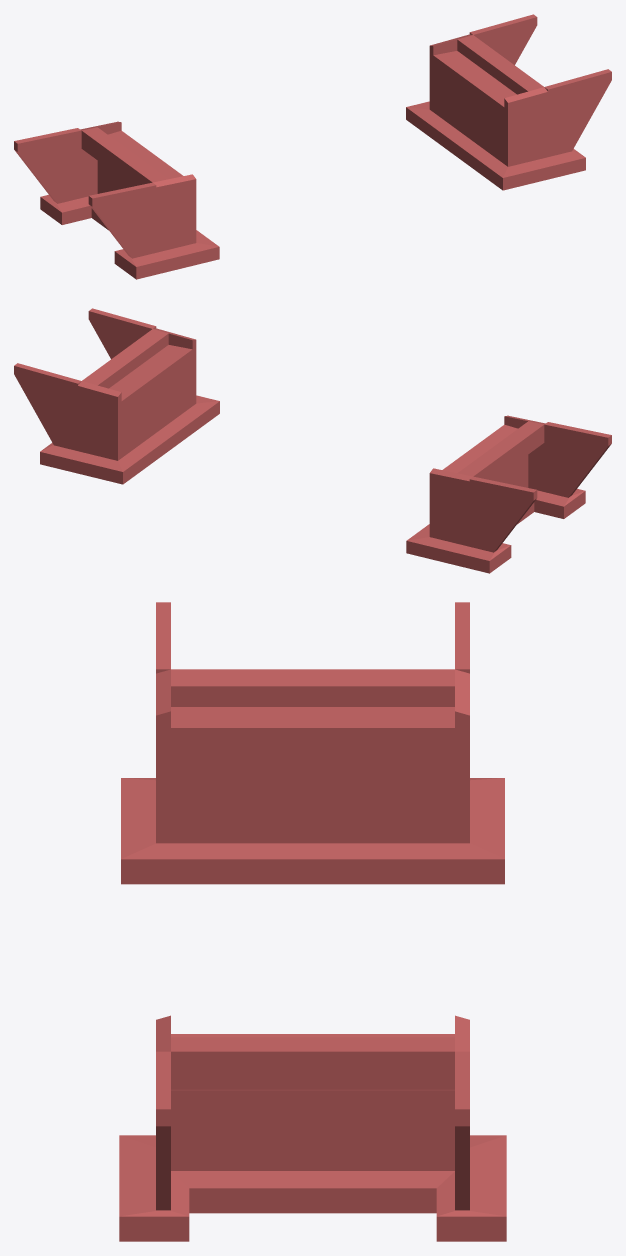
The model's file is bridge7_abutments.obj.
The picture shows the model from 3 angles, top to bottom: view 1: azimuth 30°, elevation 25°; view 2: azimuth 150°, elevation 25°; view 3: azimuth 270°, elevation 25°; orthographic projection. The views are drawn at different scales.
Parts seen in each view (by area): view 1: mesh_1, mesh_0; view 2: mesh_1, mesh_0; view 3: mesh_0, mesh_1.
Boxes of the visible parts, x1,y1,x2,y2 form: mesh_1: [406, 14, 611, 190]; mesh_0: [14, 121, 219, 279]; mesh_1: [14, 308, 219, 484]; mesh_0: [406, 415, 611, 573]; mesh_0: [121, 602, 504, 884]; mesh_1: [119, 1015, 506, 1241].
Bounding box in the file's own units: 65 × 9.95 × 21.
